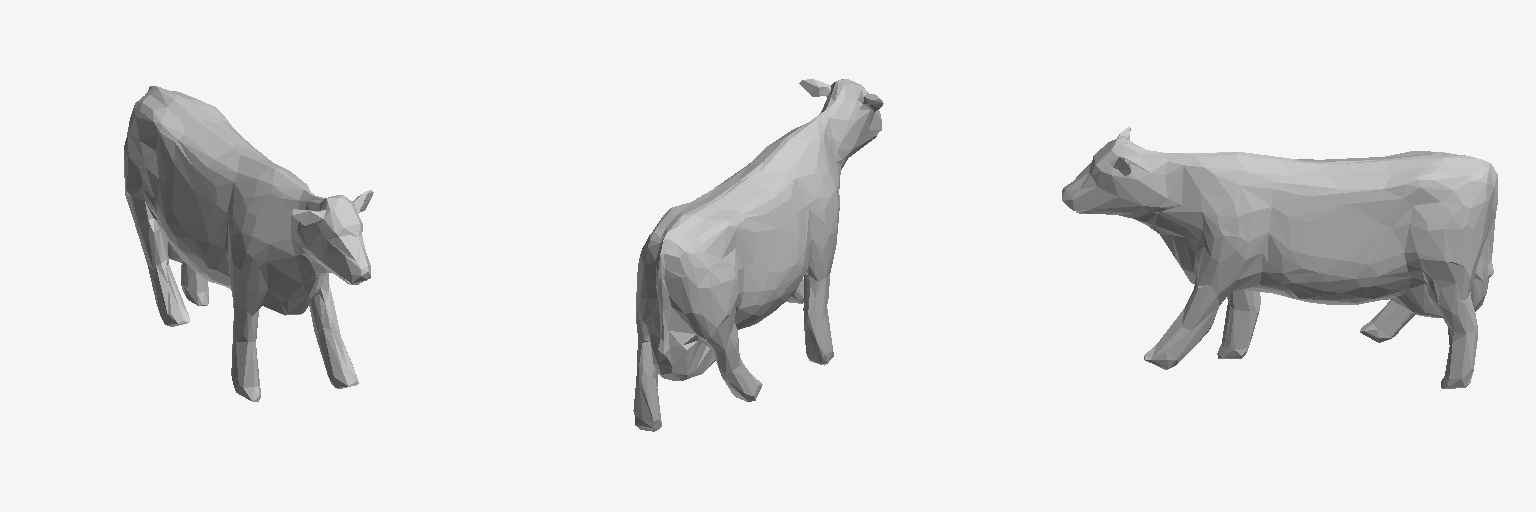
The model's file is step4.obj.
The picture shows the model from 3 angles: view 1: azimuth 30°, elevation 25°; view 2: azimuth 150°, elevation 25°; view 3: azimuth 270°, elevation 25°; orthographic projection.
Parts seen in each view (by area): view 1: Cow:cow; view 2: Cow:cow; view 3: Cow:cow.
Part boxes in pixels (left/top/right/bottom): Cow:cow: left=124, top=86, right=373, bottom=401; Cow:cow: left=633, top=79, right=883, bottom=431; Cow:cow: left=1062, top=126, right=1497, bottom=388.
Size of the model in its own units: 4.58 by 11.61 by 19.59.